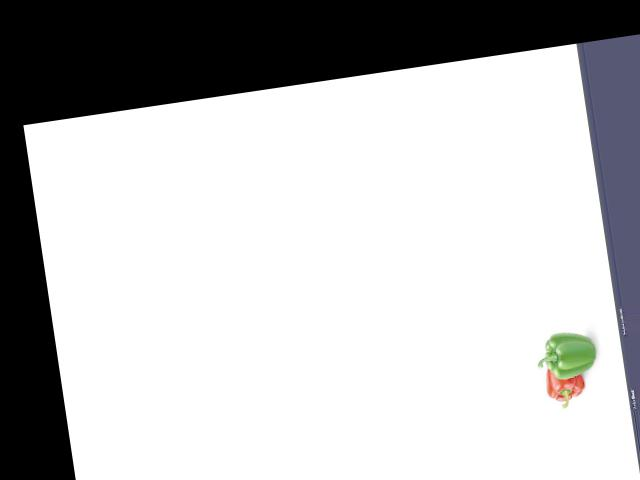bell_pepper: (538, 362, 586, 410)
